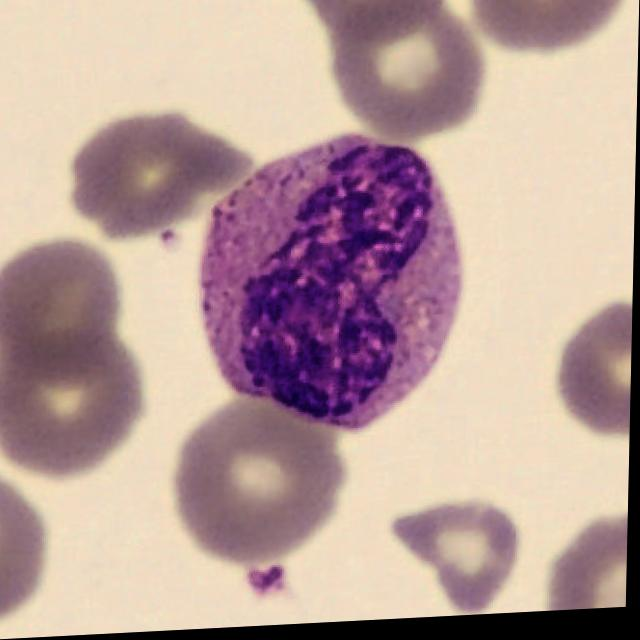Metamielocito: (199, 134, 465, 433)
